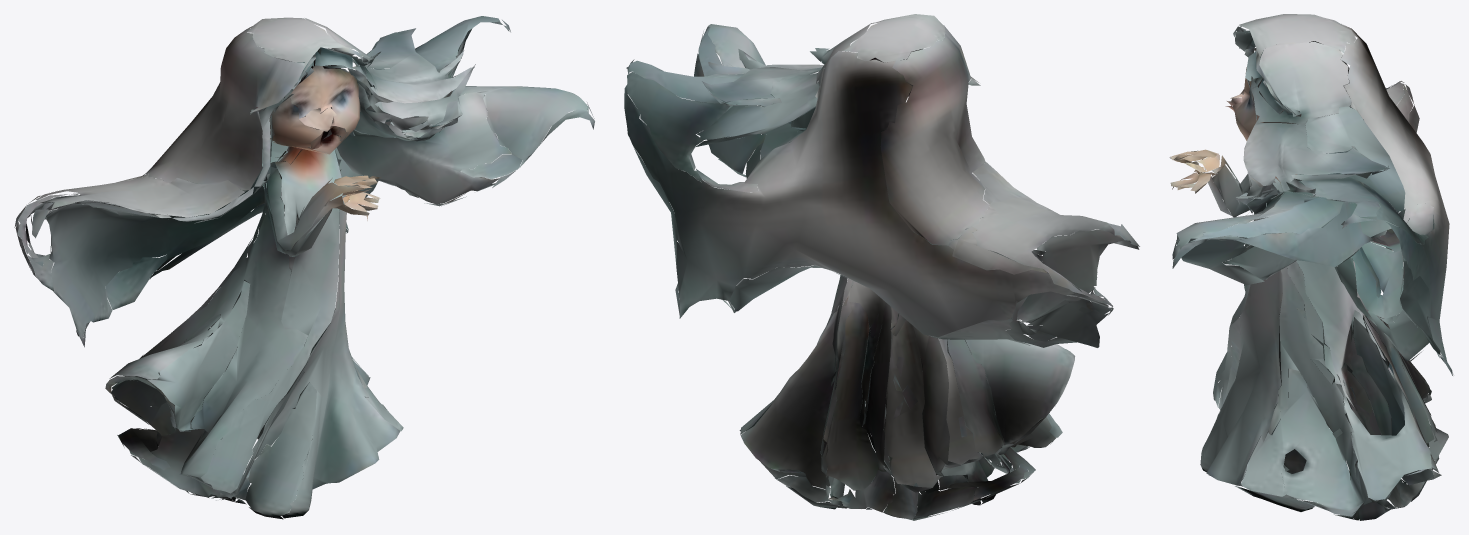
The model's file is banshee.glb.
The picture shows the model from 3 angles, left to right: view 1: azimuth 30°, elevation 25°; view 2: azimuth 150°, elevation 25°; view 3: azimuth 270°, elevation 25°; orthographic projection. The views are drawn at different scales.
Parts seen in each view (by area): view 1: geometry_0; view 2: geometry_0; view 3: geometry_0.
Part boxes in pixels (left/top/right/bottom): geometry_0: left=14, top=16, right=594, bottom=519; geometry_0: left=624, top=14, right=1139, bottom=520; geometry_0: left=1169, top=14, right=1453, bottom=520.
Size of the model in its own units: 1 by 0.8736 by 0.4802.
Materials: 1 (1 with a texture image).
